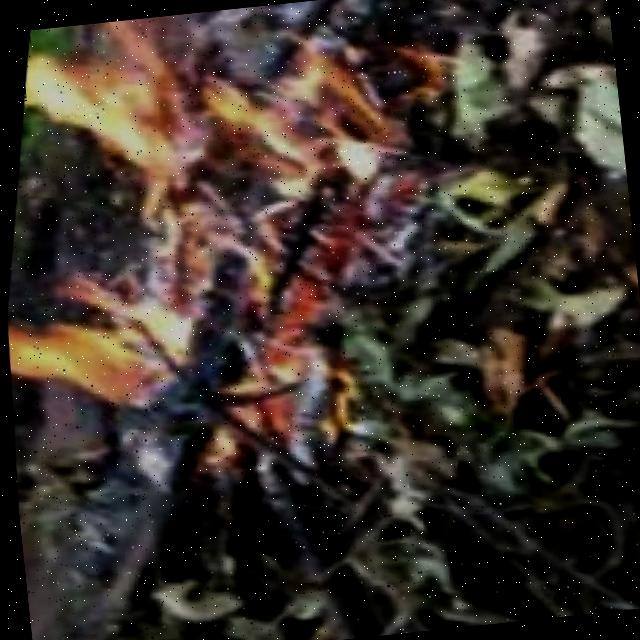fire: (0, 0, 437, 511)
